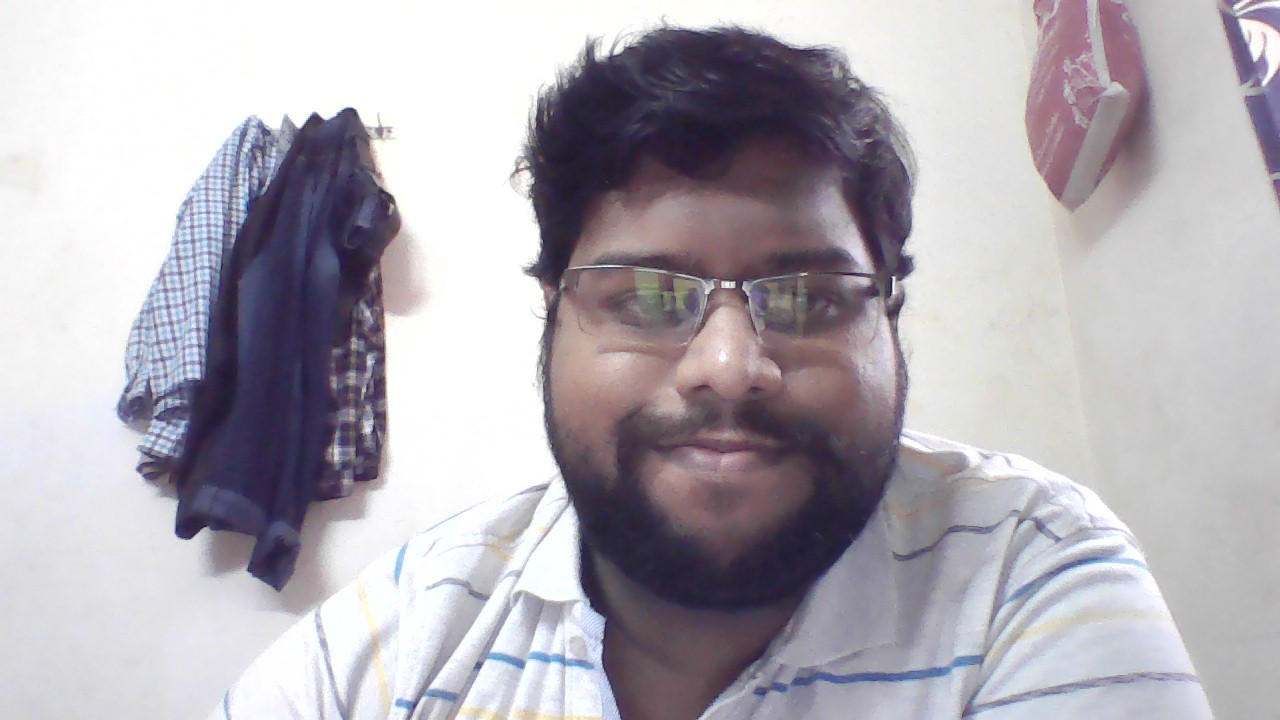NoMask: (535, 325, 912, 548)
